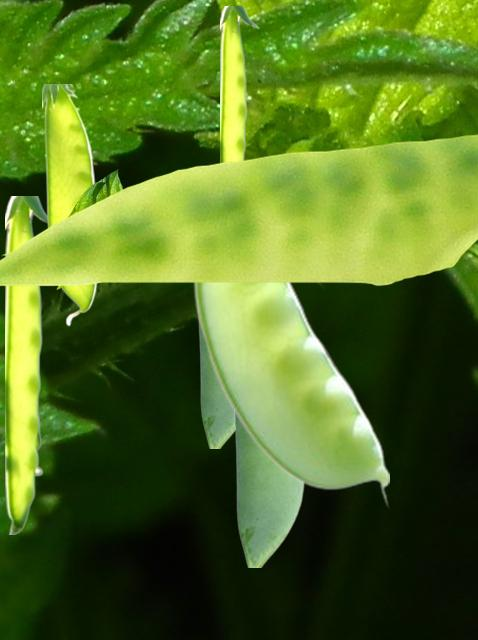pea: (192, 286, 388, 507), (5, 196, 45, 533), (42, 84, 96, 325), (232, 411, 304, 566), (220, 6, 258, 161), (198, 325, 233, 447)
